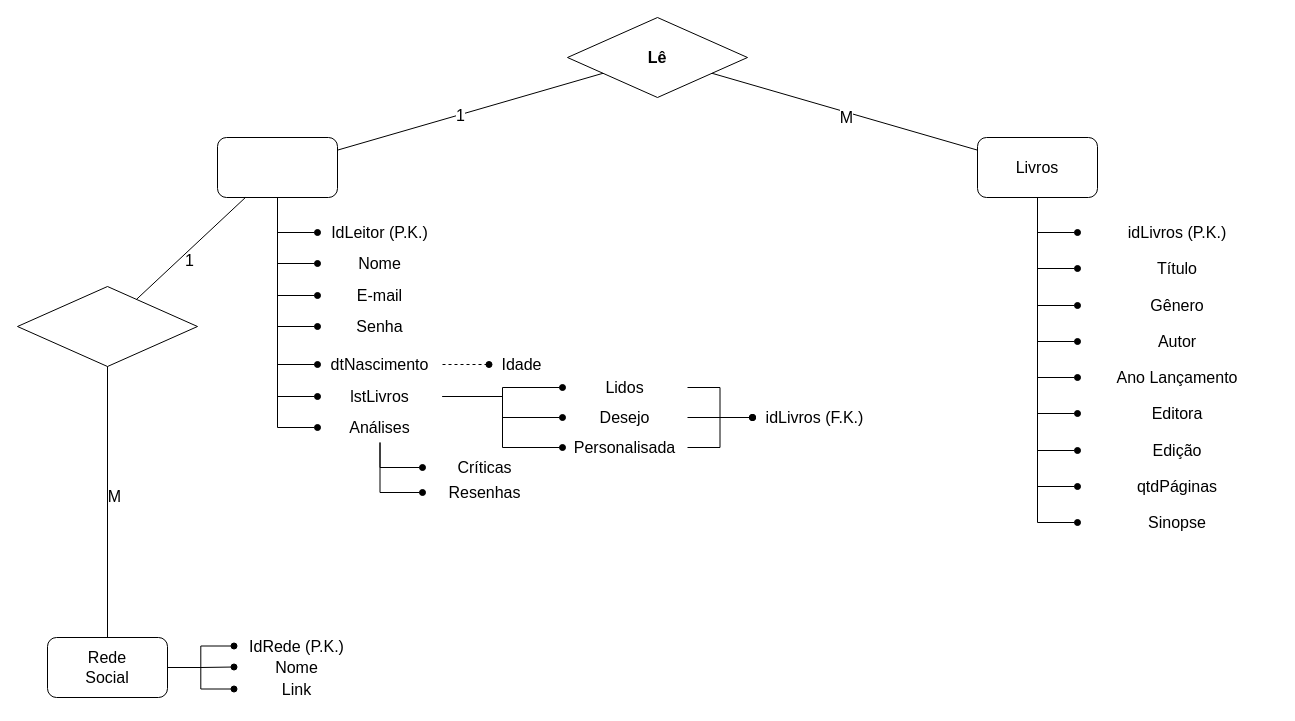
Image size: 1295x721. Some labels were removed from this diagram. Here are the shapes that lost their labels. From the top down, the centre of each, then its label:
the point at 277,167: Leitor
the point at 107,326: Possui
